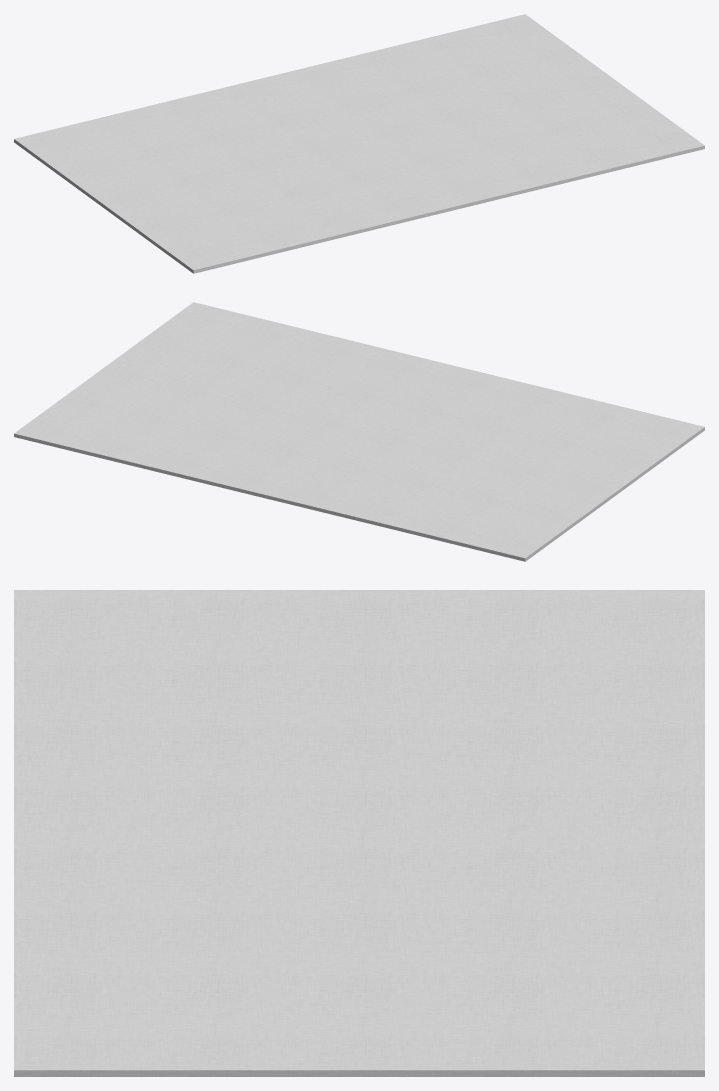
3 views of the same model, one above another, from view 1: azimuth 30°, elevation 25°; view 2: azimuth 150°, elevation 25°; view 3: azimuth 270°, elevation 25° (orthographic). The views are drawn at different scales.
Visible parts, largest first — view 1: Ceiling#0_0; view 2: Ceiling#0_0; view 3: Ceiling#0_0.
Part boxes in pixels (bbox=[...]): Ceiling#0_0: bbox=[14, 14, 704, 273]; Ceiling#0_0: bbox=[14, 302, 704, 561]; Ceiling#0_0: bbox=[14, 590, 704, 1076].
Size of the model in its own units: 7.71 by 0.05 by 4.69.
1 material, 1 textured.
